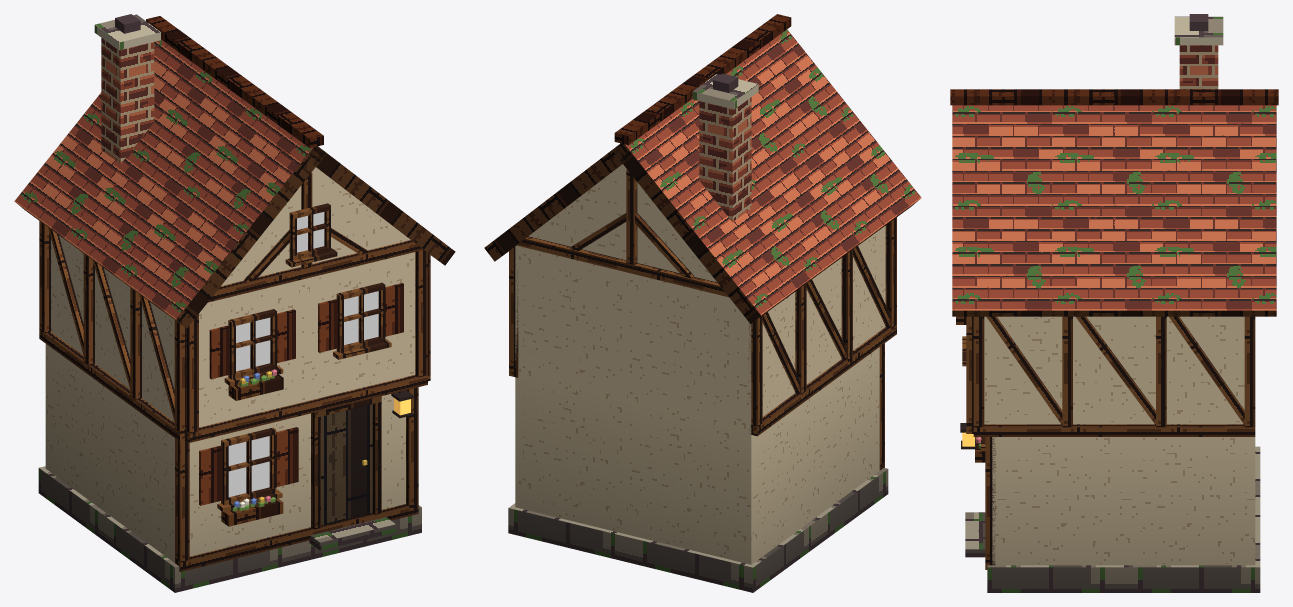
File: cottage_tall.glb
3 views of the same model, side by side, from view 1: azimuth 30°, elevation 25°; view 2: azimuth 150°, elevation 25°; view 3: azimuth 270°, elevation 25° (orthographic).
Visible parts, largest first — view 1: cottage_tall; view 2: cottage_tall; view 3: cottage_tall.
Part boxes in pixels (x1,y1,x2,y2): cottage_tall: (14, 14, 455, 592); cottage_tall: (484, 14, 921, 592); cottage_tall: (950, 14, 1278, 592).
Size of the model in its own units: 5.16 by 8.51 by 5.24.
Materials: 8 (5 with a texture image).
